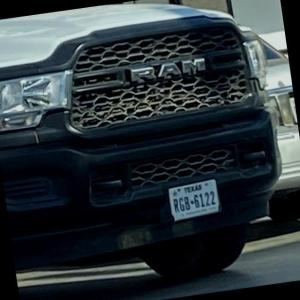Plate: (167, 178, 221, 223)
